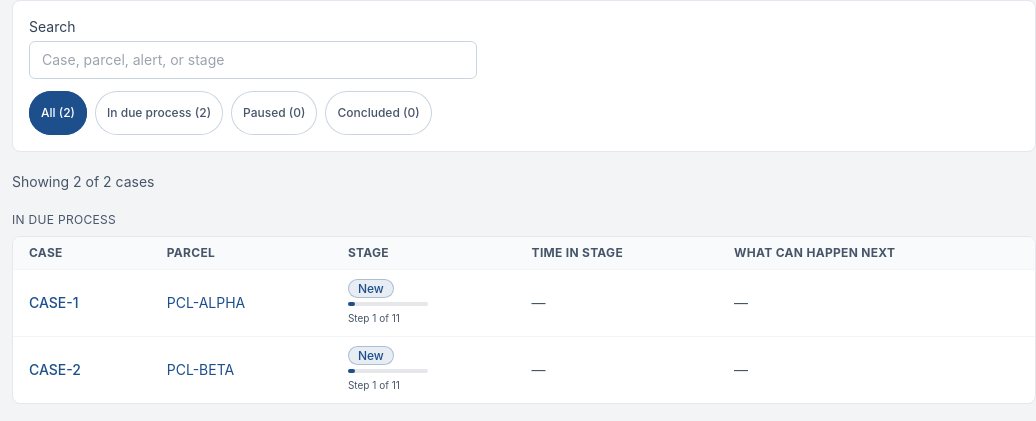
it: CasesTable › searches by case or parcel id
In the search field named "Search cases": (253, 60) top-left (29, 41), bottom-right (477, 79), type "BETA"
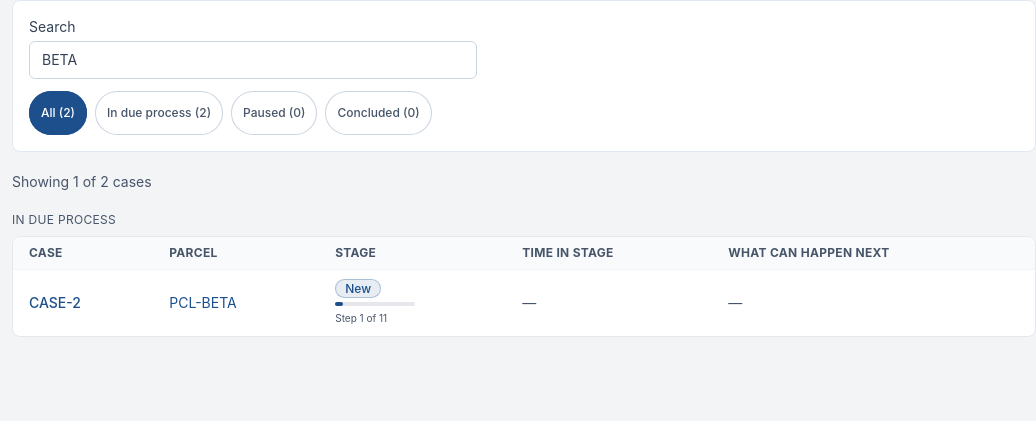
Expected: the number of rows with test id "case-row" is 1, top-left (13, 270), bottom-right (1035, 336)
Expected: the text "Showing 1 of 2 cases" is shown, top-left (12, 173), bottom-right (152, 190)
